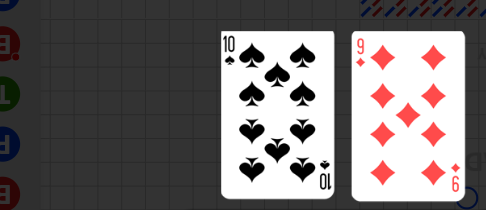10S: (222, 34, 237, 68)
9D: (450, 161, 461, 193)
